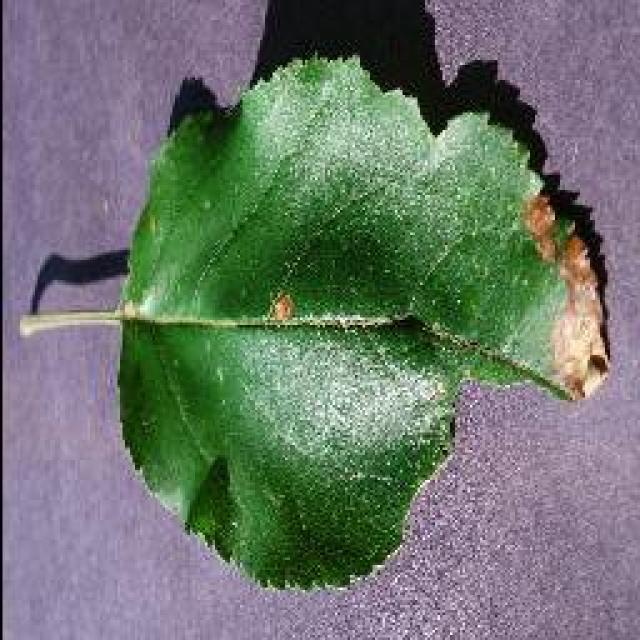Black_rot: (19, 0, 612, 592)
